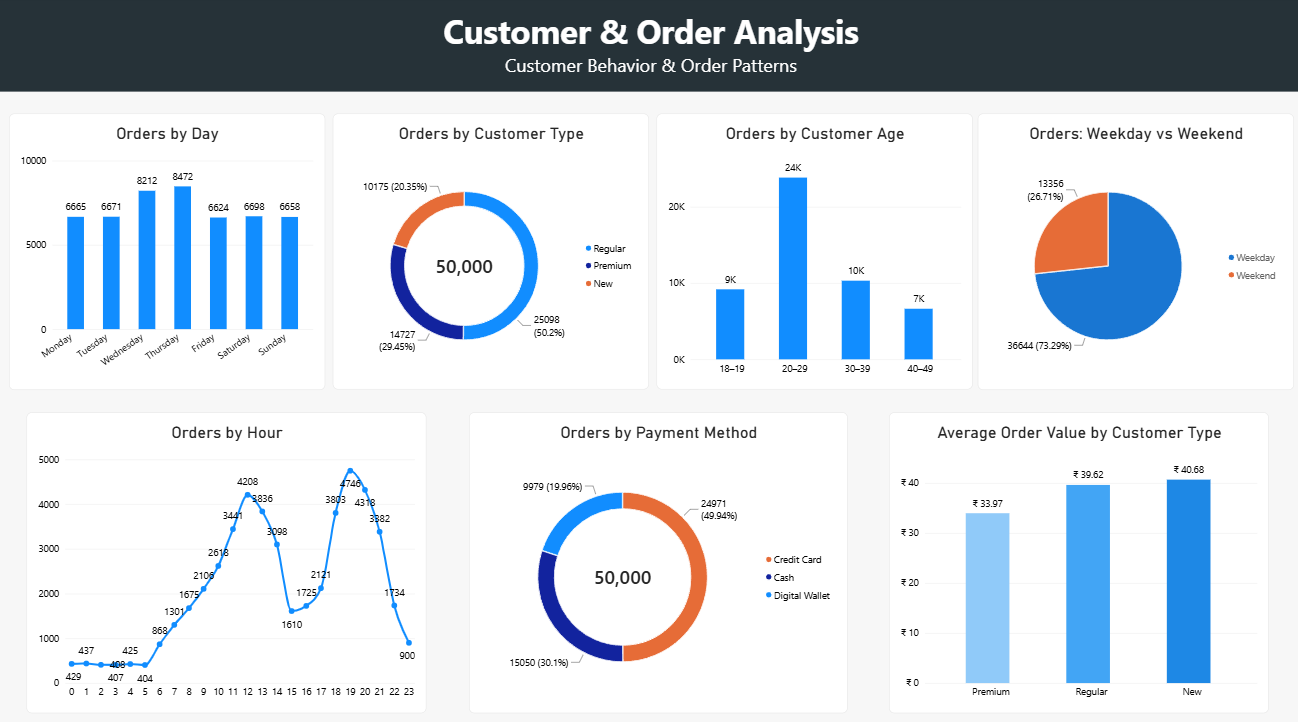

What the dashboard file says about the page in this screenshot:
{"tool":"powerbi","page":{"name":"Customer & Order Analysis","canvas":[1920,1080],"ordinal":1},"visuals":[{"type":"lineChart","title":"Orders by Hour","fields":{"Category":["food_delivery_orders_cleaned.order_hour"],"Y":["food_delivery_orders_cleaned.Total_Orders"]},"box":[0,612.9,924,446],"z":0},{"type":"clusteredColumnChart","title":"Orders by Day ","fields":{"Category":["Days.Day"],"Y":["food_delivery_orders_cleaned.Total_Orders"]},"box":[16.6,154.6,450,446],"z":1000},{"type":"donutChart","title":"Orders by Customer Type","fields":{"Category":["food_delivery_orders_cleaned.customer_type"],"Y":["food_delivery_orders_cleaned.Total_Orders"]},"box":[491.4,154.6,450,446],"z":2000},{"type":"clusteredColumnChart","title":"Orders by Customer Age","fields":{"Category":["food_delivery_orders_cleaned.Age Group"],"Y":["food_delivery_orders_cleaned.Total_Orders"]},"box":[968.1,154.6,450,446],"z":3000},{"type":"donutChart","title":"Orders by Payment Method","fields":{"Category":["food_delivery_orders_cleaned.payment_method"],"Y":["food_delivery_orders_cleaned.Total_Orders"]},"box":[968.1,612.9,450,446],"z":4000},{"type":"pieChart","title":"Orders: Weekday vs Weekend","fields":{"Category":["food_delivery_orders_cleaned.Day Type"],"Y":["food_delivery_orders_cleaned.Total_Orders"]},"box":[1448.5,154.6,450,446],"z":5000},{"type":"clusteredColumnChart","title":"Average Order Value by Customer Type","fields":{"Category":["food_delivery_orders_cleaned.customer_type"],"Y":["food_delivery_orders_cleaned.Average_Order_Value"]},"box":[1448.5,612.9,450,446],"z":6000},{"type":"textbox","box":[0,0,1920,112],"z":7000},{"type":"textbox","box":[0,112,1920,5],"z":8000},{"type":"textbox","box":[31.3,3.7,68.1,81],"z":9000},{"type":"textbox","box":[116,66,1000,34],"z":10000},{"type":"textbox","box":[116,18,1000,52],"z":11000},{"type":"slicer","title":"City","fields":{"Values":["food_delivery_orders_cleaned.city"]},"box":[1110,18,250,80],"z":12000},{"type":"slicer","title":"Customer Type","fields":{"Values":["food_delivery_orders_cleaned.customer_type"]},"box":[1372,18,250,80],"z":13000},{"type":"slicer","title":"Restaurant Type","fields":{"Values":["food_delivery_orders_cleaned.restaurant_type"]},"box":[1634,18,250,80],"z":14000}]}

Visuals, with their boxes in screenshot pixels (x1, y1, x2, y2), scaled from the page's 1920x1080 canvas onto the 1298x722 screenshot:
"Orders by Hour" lineChart: 0,410,625,708
"Orders by Day " clusteredColumnChart: 11,103,315,402
"Orders by Customer Type" donutChart: 332,103,636,402
"Orders by Customer Age" clusteredColumnChart: 654,103,959,402
"Orders by Payment Method" donutChart: 654,410,959,708
"Orders: Weekday vs Weekend" pieChart: 979,103,1283,402
"Average Order Value by Customer Type" clusteredColumnChart: 979,410,1283,708
textbox: 0,0,1297,75
textbox: 0,75,1297,78
textbox: 21,2,67,57
textbox: 78,44,754,67
textbox: 78,12,754,47
"City" slicer: 750,12,919,66
"Customer Type" slicer: 928,12,1097,66
"Restaurant Type" slicer: 1105,12,1274,66
